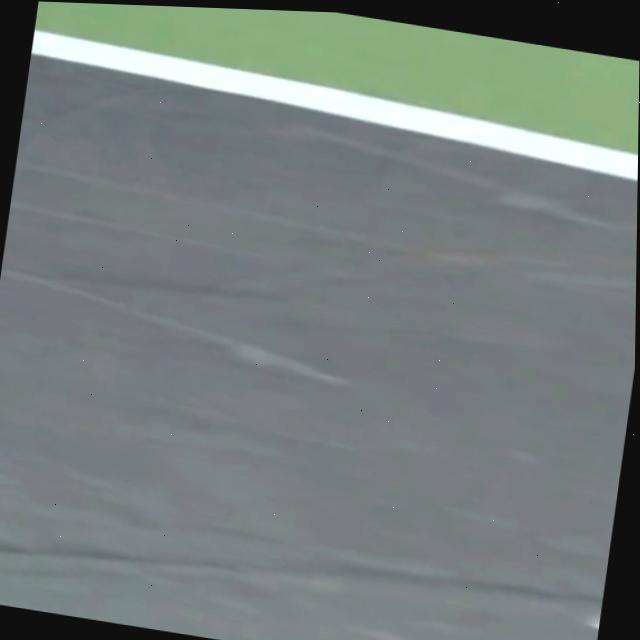right: (30, 30, 638, 182)
